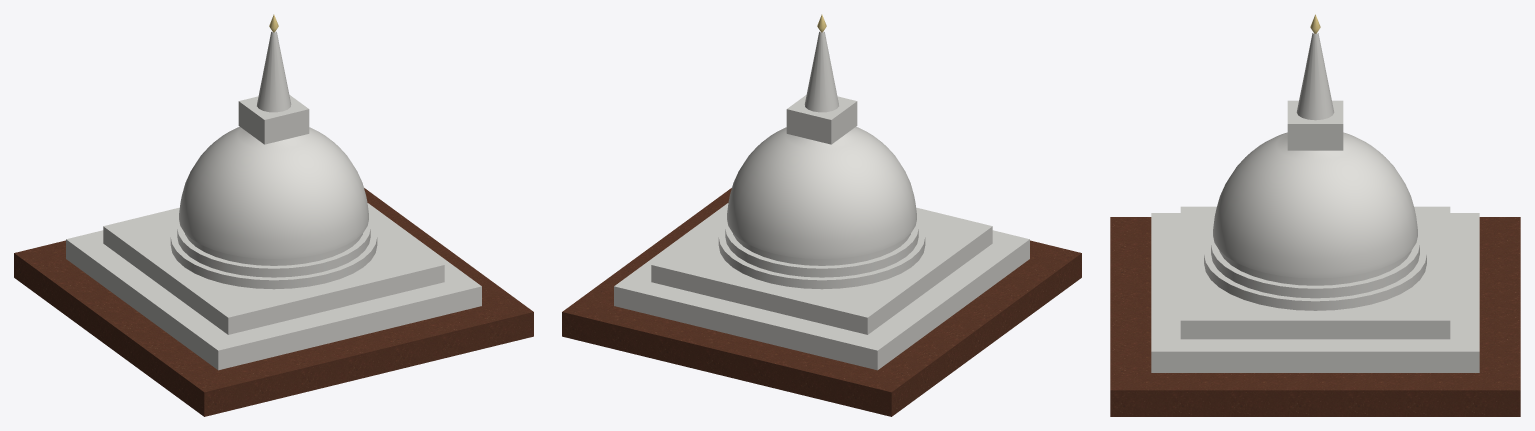
The model's file is stupa.glb.
The picture shows the model from 3 angles, left to right: view 1: azimuth 30°, elevation 25°; view 2: azimuth 150°, elevation 25°; view 3: azimuth 270°, elevation 25°; orthographic projection. The views are drawn at different scales.
Visible parts, largest first — view 1: stupa; view 2: stupa; view 3: stupa.
Boxes of the visible parts, <box> form: stupa: <box>14,14,533,416</box>; stupa: <box>562,14,1081,416</box>; stupa: <box>1110,14,1520,416</box>.
Size of the model in its own units: 7 by 5.95 by 7.
3 materials, 1 textured.
